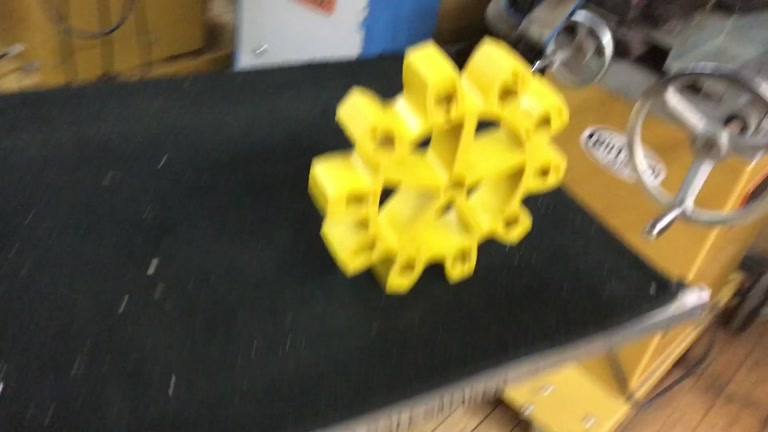gear: (305, 34, 571, 297)
